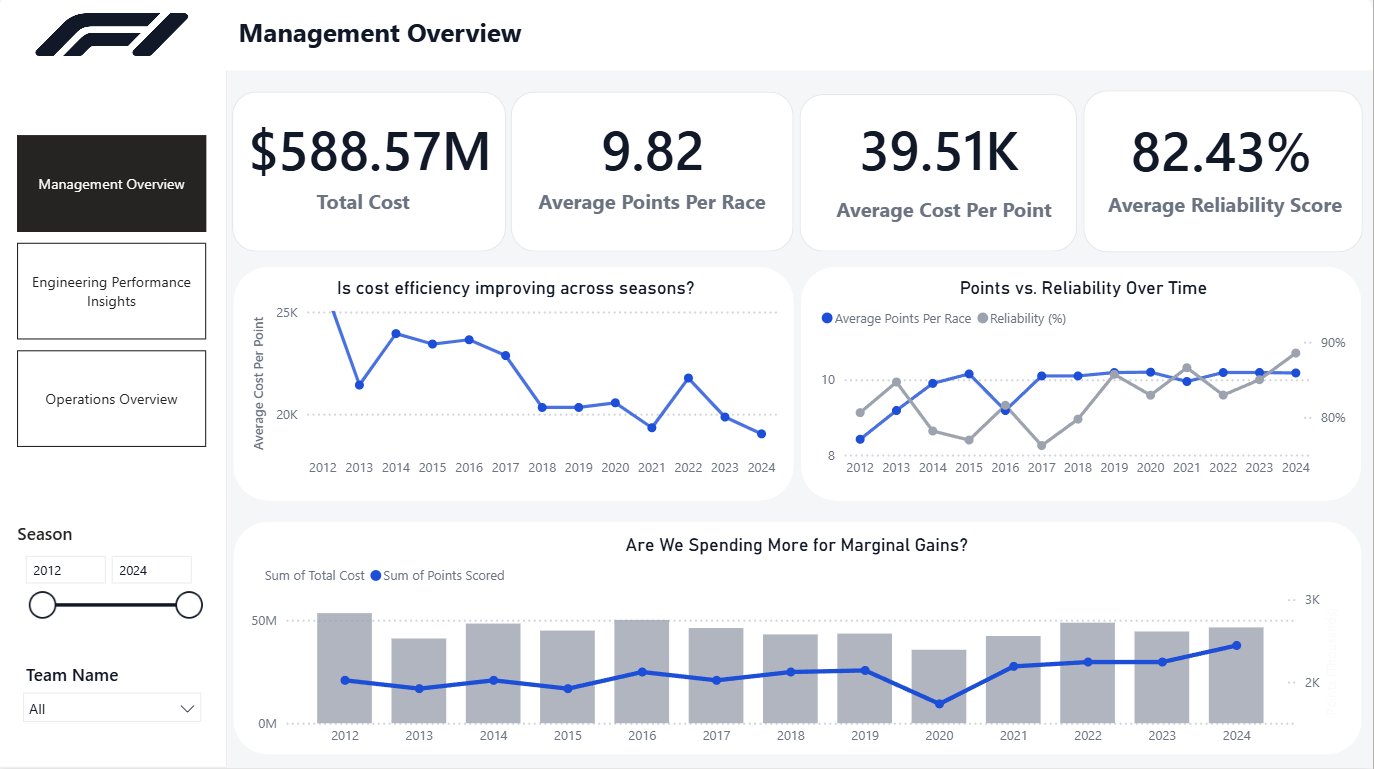

What the dashboard file says about the page in this screenshot:
{"tool":"powerbi","page":{"name":"Management Overview","canvas":[1280,720],"ordinal":0},"visuals":[{"type":"shape","box":[0,49.9,214.3,669.8],"z":0},{"type":"shape","box":[1010.7,89.6,260.1,150.9],"z":0,"group":"g3"},{"type":"shape","box":[218.3,90.9,255,149],"z":0,"group":"g1"},{"type":"shape","box":[478.4,90.9,263.1,149],"z":0,"group":"g4"},{"type":"shape","box":[746.6,93.2,258.2,146.6],"z":0,"group":"g2"},{"type":"shape","box":[0,0,1280.3,71.4],"z":1000},{"type":"card","title":"T","fields":{"Values":["public dim_constructor.Total Cost"]},"box":[219.4,87.6,255,111.5],"z":1000,"group":"g1"},{"type":"card","title":"T","fields":{"Values":["public vw_management_kpis.avg_points_per_race"]},"box":[479.5,87.6,263.1,111.5],"z":1000,"group":"g4"},{"type":"card","title":"T","fields":{"Values":["public vw_management_kpis.avg_cost_per_point"]},"box":[747.8,87.6,257.6,110],"z":1000,"group":"g2"},{"type":"card","title":"T","fields":{"Values":["public vw_management_kpis.avg_reliability"]},"box":[1009.4,87.6,260,113.1],"z":1000,"group":"g3"},{"type":"textbox","box":[219.7,13.5,845,47.2],"z":2000},{"type":"textbox","box":[272.1,176.2,137.1,40.3],"z":2000,"group":"g1"},{"type":"textbox","box":[485.7,176.2,248.8,35.7],"z":2000,"group":"g4"},{"type":"textbox","box":[1024.5,178.2,235.8,39.6],"z":2000,"group":"g3"},{"type":"textbox","box":[764.7,182.5,231.8,43.1],"z":2000,"group":"g2"},{"type":"shape","box":[219.7,253.4,521.5,218.2],"z":3000,"group":"g5"},{"type":"shape","box":[747.9,253.4,521.5,218.2],"z":3000,"group":"g6"},{"type":"shape","box":[219.7,490.5,1049.8,217],"z":3000},{"type":"group","id":"g1","title":"Group 1","box":[218.3,87.6,256.1,152.3],"z":4000},{"type":"group","id":"g2","title":"Group 1","box":[746.6,87.6,258.8,152.3],"z":5000},{"type":"group","id":"g3","title":"Group 1","box":[1009.4,87.6,261.4,152.3],"z":6000},{"type":"group","id":"g4","title":"Group 1","box":[478.4,87.6,264.1,152.3],"z":7000},{"type":"group","id":"g5","title":"Group 2","box":[219.7,253.4,521.5,218.3],"z":8000},{"type":"group","id":"g6","title":"Group 2","box":[747.9,253.4,521.5,218.3],"z":9000},{"type":"lineChart","title":"Is cost efficiency improving across seasons?","fields":{"Y":["public dim_constructor.season_avg_cost_per_point"],"Category":["public dim_race.season"]},"box":[233.4,263,498.3,196.2],"z":9000,"group":"g5"},{"type":"lineChart","title":"Points vs. Reliability Over Time","fields":{"Category":["public dim_race.season"],"Y":["public vw_management_kpis.avg_points_per_race"],"Y2":["public vw_management_kpis.avg_reliability"]},"box":[761.6,263,498.3,196.2],"z":9000,"group":"g6"},{"type":"lineClusteredColumnComboChart","title":"Are We Spending More for Marginal Gains?","fields":{"Category":["public dim_race.season"],"Y":["Sum(public vw_management_kpis.total_cost)"],"Y2":["Sum(public vw_management_kpis.points_scored)"]},"box":[231.8,502.7,1025.6,206.2],"z":10000},{"type":"slicer","title":"Season","fields":{"Values":["public dim_race.season"]},"box":[13.5,490.5,186,95.7],"z":11000},{"type":"slicer","fields":{"Values":["public dim_constructor.team_name"]},"box":[13.5,615.9,186,68.7],"z":12000},{"type":"image","box":[27,5.4,160.4,60.6],"z":13000},{"type":"pageNavigator","box":[18.6,131.4,176.7,290.7],"z":14000}]}

Visuals, with their boxes in screenshot pixels (x1, y1, x2, y2), scaled from the page's 1280x720 canvas onto the 1374x769 screenshot:
shape: bbox=[0, 53, 230, 768]
shape: bbox=[1085, 96, 1364, 257]
shape: bbox=[234, 97, 508, 256]
shape: bbox=[514, 97, 796, 256]
shape: bbox=[801, 100, 1079, 256]
shape: bbox=[0, 0, 1373, 76]
"T" card: bbox=[236, 94, 509, 213]
"T" card: bbox=[515, 94, 797, 213]
"T" card: bbox=[803, 94, 1079, 211]
"T" card: bbox=[1084, 94, 1363, 214]
textbox: bbox=[236, 14, 1143, 65]
textbox: bbox=[292, 188, 439, 231]
textbox: bbox=[521, 188, 788, 226]
textbox: bbox=[1100, 190, 1353, 233]
textbox: bbox=[821, 195, 1070, 241]
shape: bbox=[236, 271, 796, 504]
shape: bbox=[803, 271, 1363, 504]
shape: bbox=[236, 524, 1363, 756]
"Group 1" group: bbox=[234, 94, 509, 256]
"Group 1" group: bbox=[801, 94, 1079, 256]
"Group 1" group: bbox=[1084, 94, 1364, 256]
"Group 1" group: bbox=[514, 94, 797, 256]
"Group 2" group: bbox=[236, 271, 796, 504]
"Group 2" group: bbox=[803, 271, 1363, 504]
"Is cost efficiency improving across seasons?" lineChart: bbox=[251, 281, 785, 490]
"Points vs. Reliability Over Time" lineChart: bbox=[818, 281, 1352, 490]
"Are We Spending More for Marginal Gains?" lineClusteredColumnComboChart: bbox=[249, 537, 1350, 757]
"Season" slicer: bbox=[14, 524, 214, 626]
slicer - public dim_constructor.team_name: bbox=[14, 658, 214, 731]
image: bbox=[29, 6, 201, 70]
pageNavigator: bbox=[20, 140, 210, 451]
